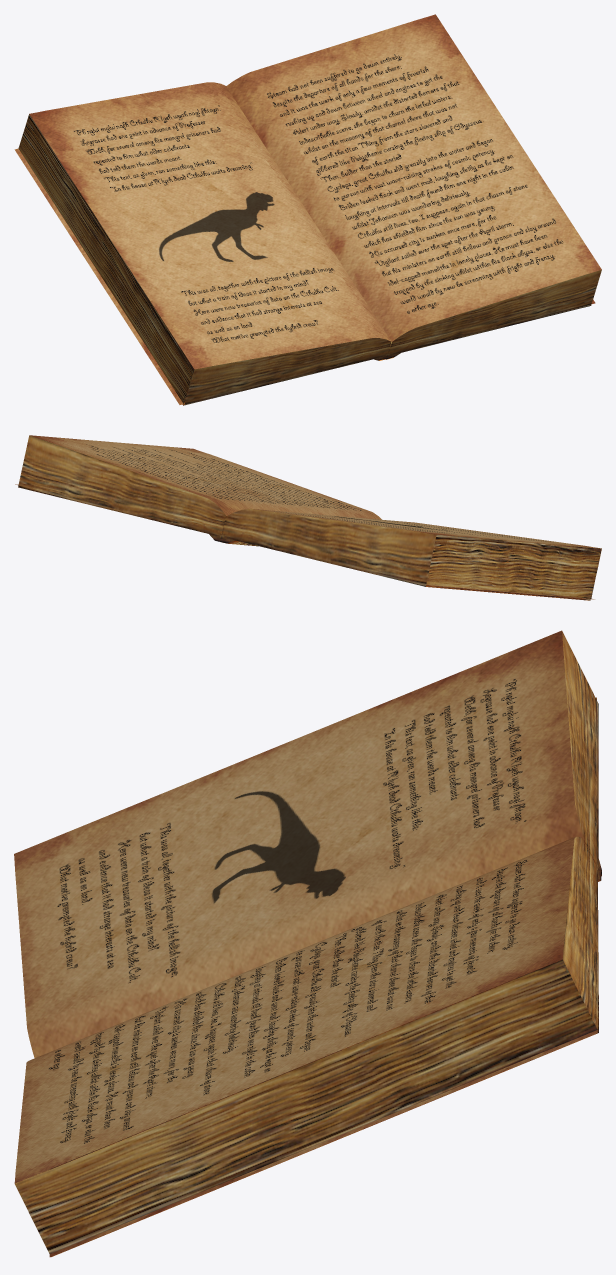
The model's file is book.FBX.
The picture shows the model from 3 angles, top to bottom: view 1: azimuth 30°, elevation 25°; view 2: azimuth 150°, elevation 25°; view 3: azimuth 270°, elevation 25°; orthographic projection. The views are drawn at different scales.
Parts seen in each view (by area): view 1: book; view 2: book; view 3: book.
Boxes of the visible parts, box(x1,y1,x2,y2) form: book: box(14, 14, 601, 405); book: box(15, 435, 601, 600); book: box(14, 630, 601, 1257).
Size of the model in its own units: 139 by 58.68 by 103.
